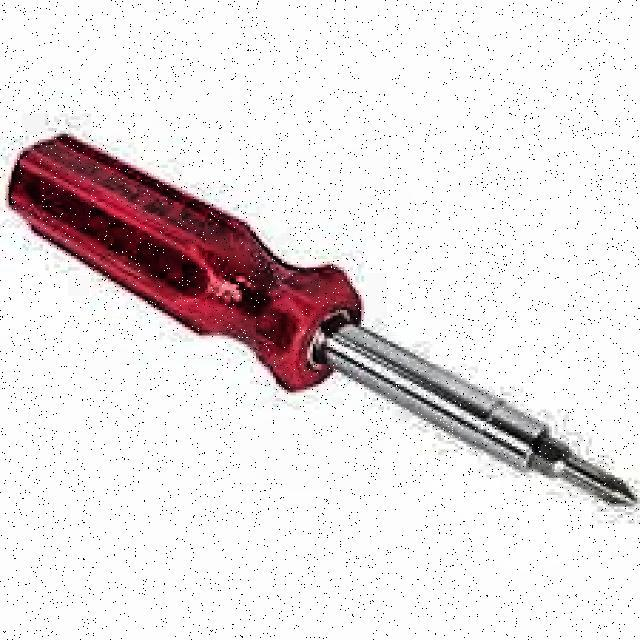screwdriver: (10, 134, 636, 508)
